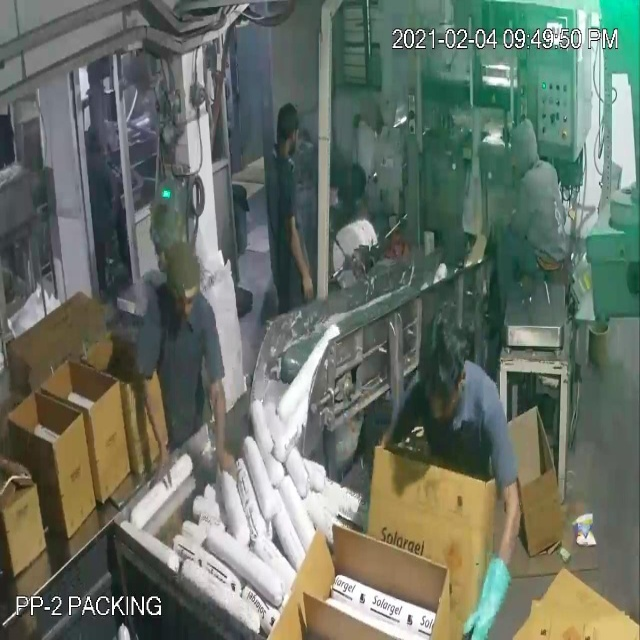Guantes: (451, 545, 520, 640)
Sin_guantes: (134, 360, 178, 500), (198, 363, 239, 488), (275, 205, 316, 304)
